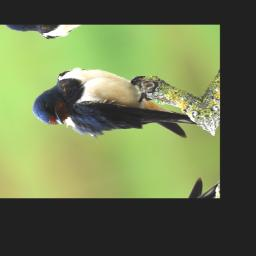Swallow: (22, 42, 204, 173)
